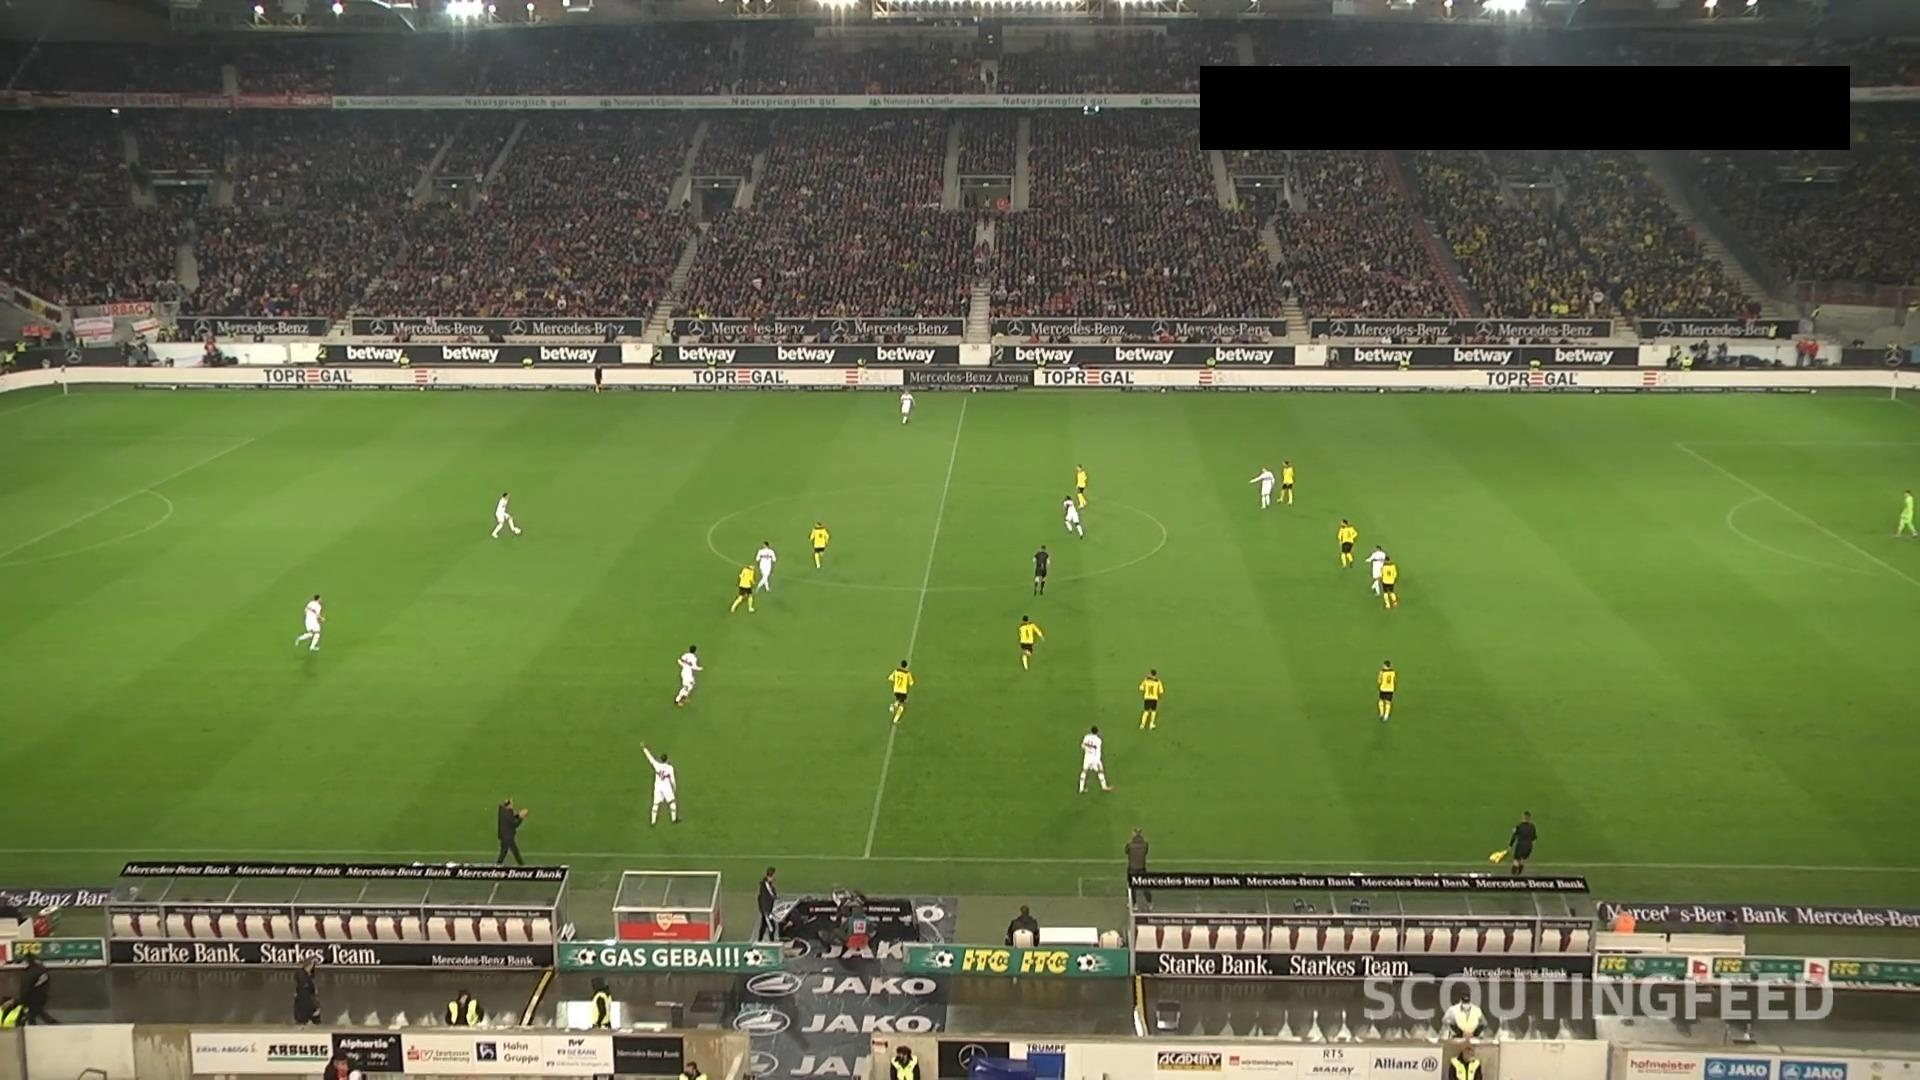ball: (514, 526, 522, 535)
